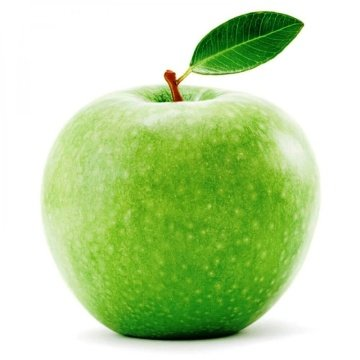apple: (26, 8, 339, 344)
